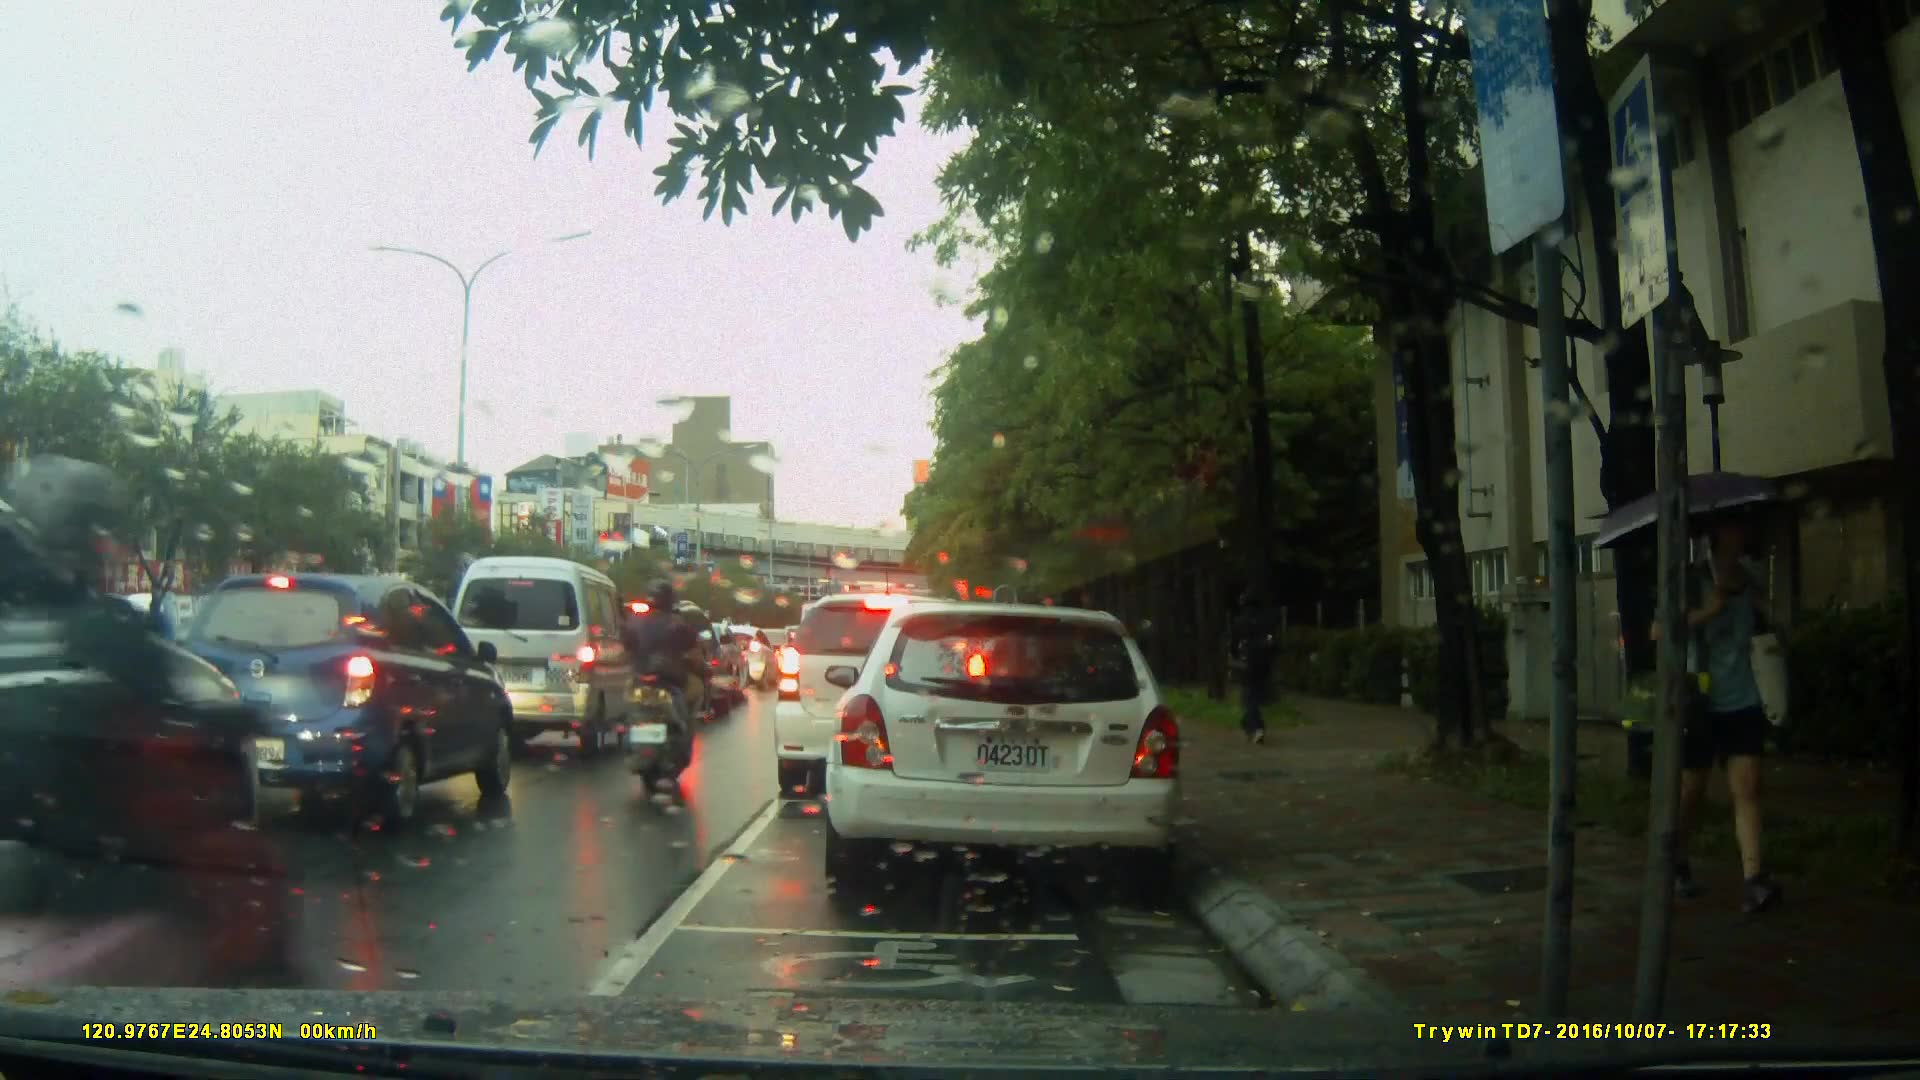pedestrian: (1667, 482, 1804, 926), (1216, 584, 1286, 755)
rider: (1, 465, 331, 1080), (616, 577, 705, 808)
vehicle: (1, 452, 259, 988), (815, 593, 1204, 909), (141, 569, 520, 832), (770, 590, 994, 802), (442, 554, 644, 762), (584, 602, 736, 724)
